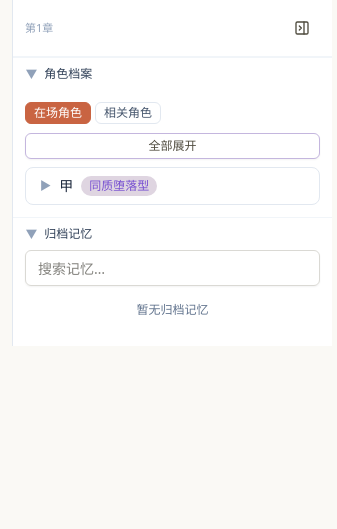
it: SandboxCharacterPanel live profile preview › highlights a field freshly mutated this round, sourced from Redux liveProfileMutations
Expected: the text "甲" is shown, x1=59 y1=176 x2=73 y2=196
Click the button "▶ 甲 同质堕落型": (119, 186) x1=26 y1=168 x2=319 y2=204
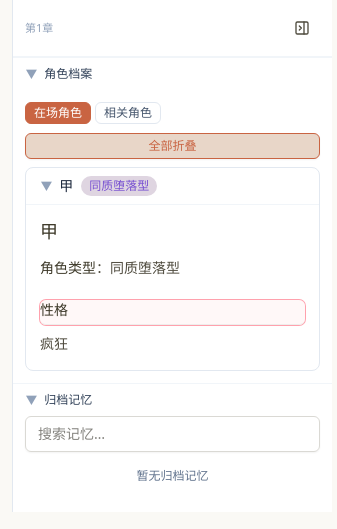
Expected: the text "疯狂" is shown, x1=40 y1=334 x2=68 y2=353
